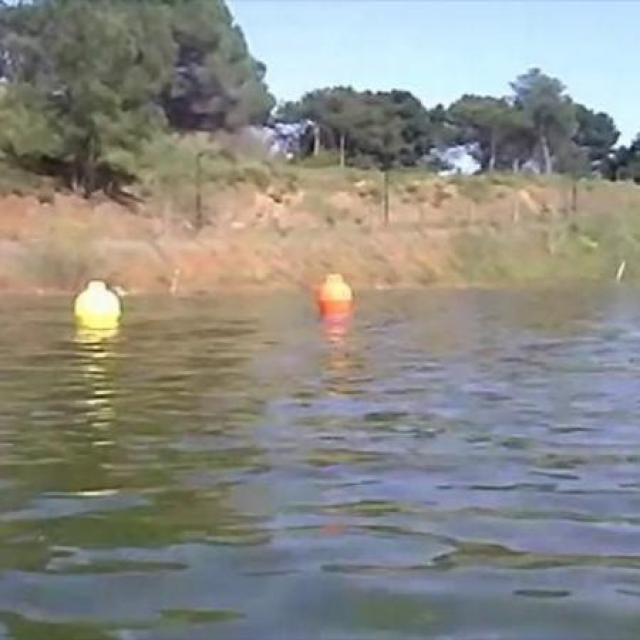buoy: (75, 277, 121, 325), (315, 267, 355, 315)
